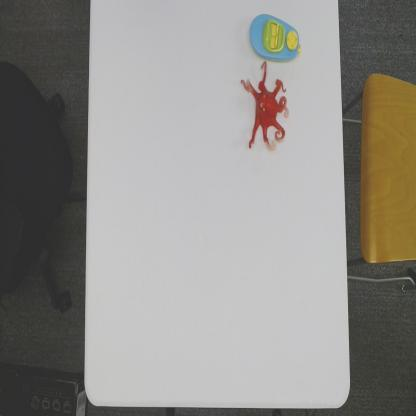Boat: (249, 12, 302, 61)
Octopus: (240, 61, 289, 153)
